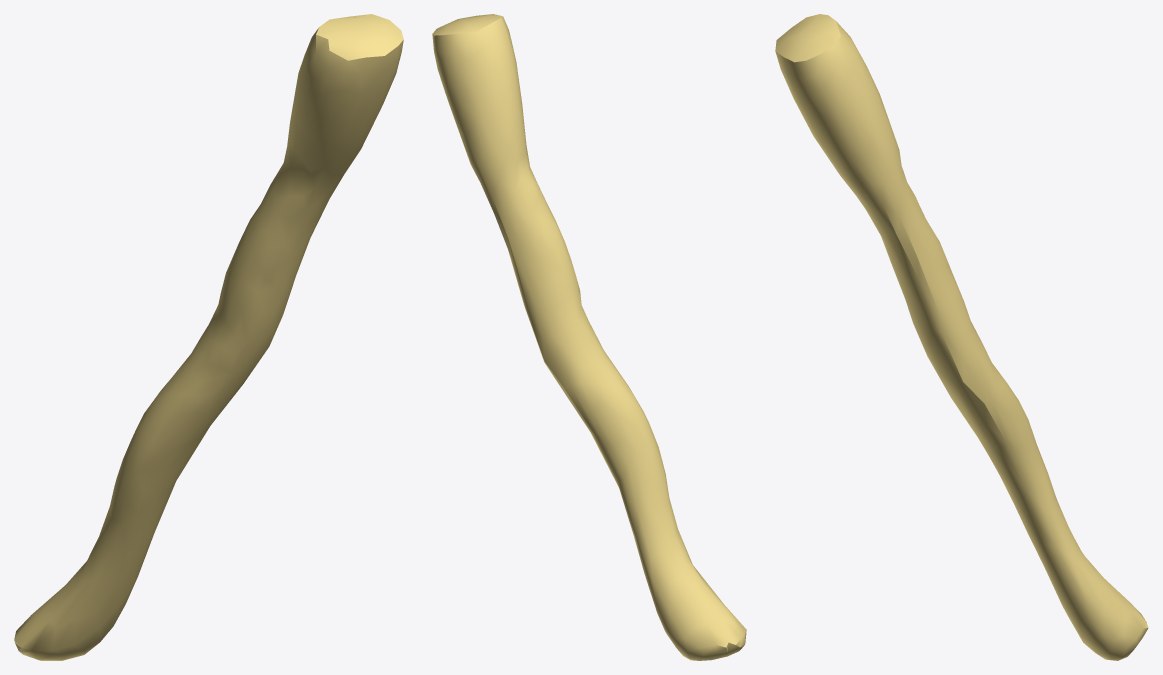
The model's file is fma73624_mm3585m.glb.
3 views of the same model, side by side, from view 1: azimuth 30°, elevation 25°; view 2: azimuth 210°, elevation 25°; view 3: azimuth 270°, elevation 25° (orthographic). The views are drawn at different scales.
Visible parts, largest first — view 1: FMA73624_MM3585M; view 2: FMA73624_MM3585M; view 3: FMA73624_MM3585M.
Part boxes in pixels (<box>): FMA73624_MM3585M: <box>14,14,403,660</box>; FMA73624_MM3585M: <box>432,14,746,660</box>; FMA73624_MM3585M: <box>775,14,1148,660</box>.
Bounding box in the file's own units: 0.0048 × 0.0144 × 0.00703.
